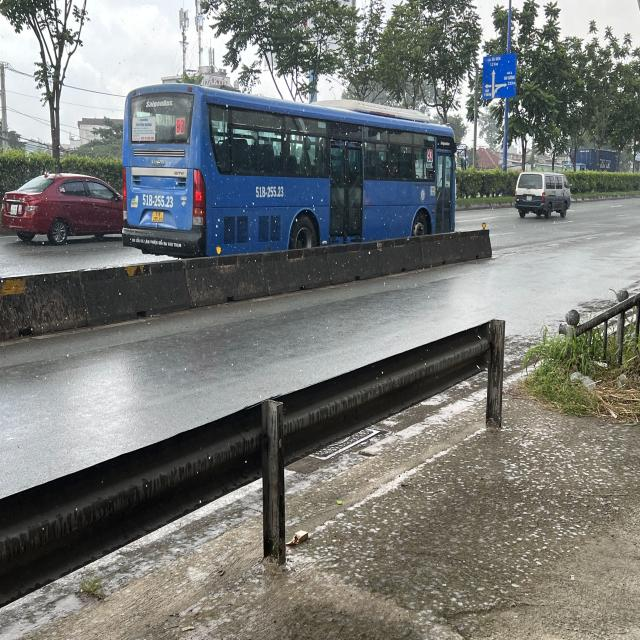car: (0, 174, 126, 246)
coach: (122, 85, 454, 251)
van: (516, 174, 570, 217)
